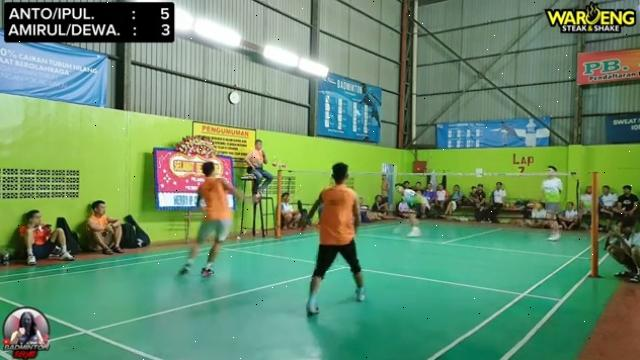Shuttlecock: (351, 109, 361, 118)
